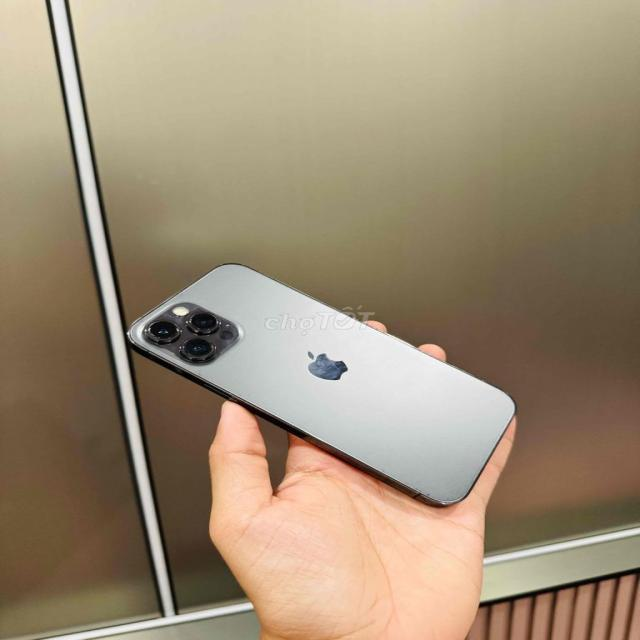gen_12_13: (121, 259, 520, 513)
